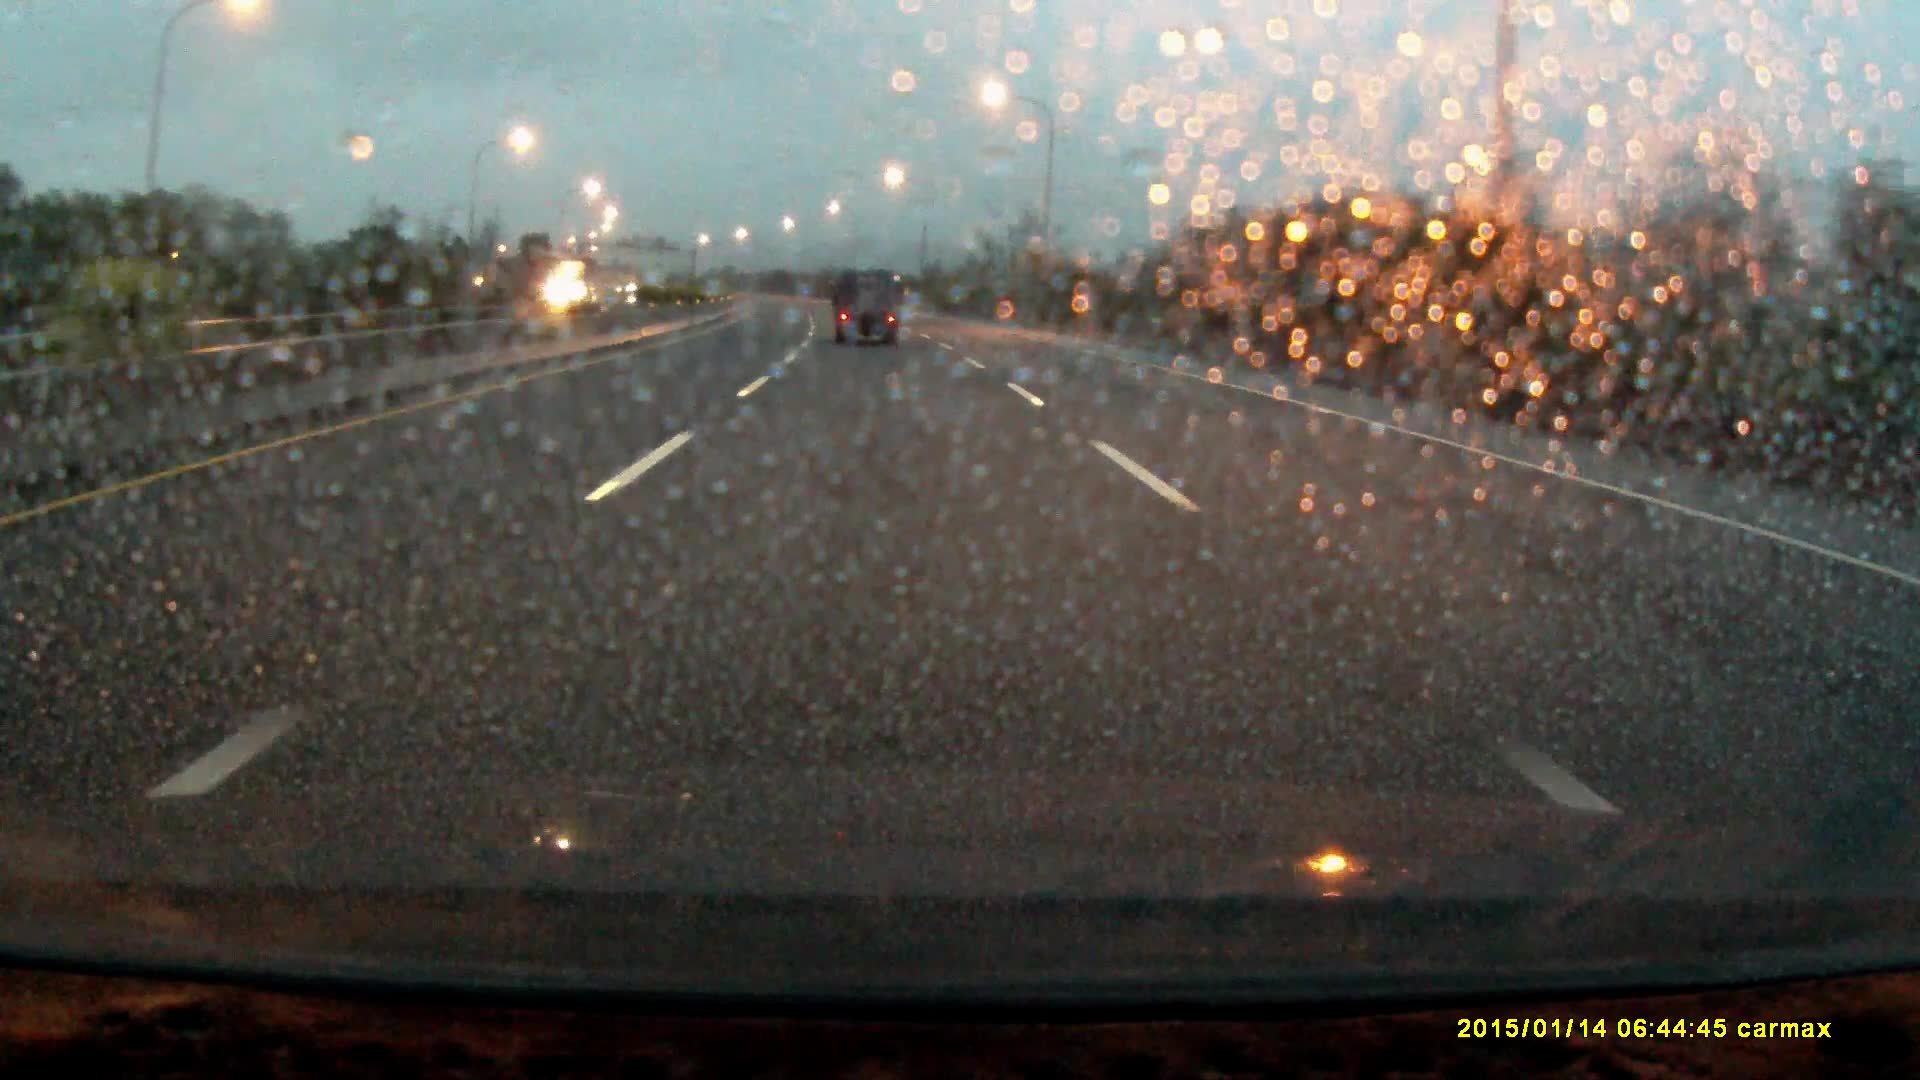vehicle: (833, 274, 902, 353), (555, 265, 625, 322)
